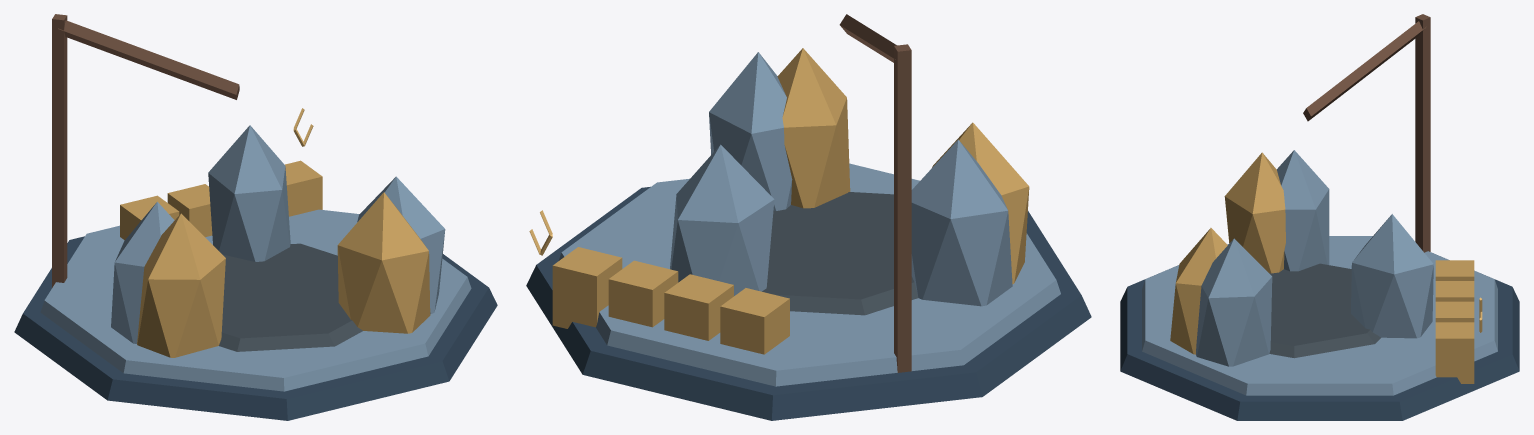
File: Quarry_3.fbx
3 views of the same model, side by side, from view 1: azimuth 30°, elevation 25°; view 2: azimuth 150°, elevation 25°; view 3: azimuth 270°, elevation 25° (orthographic). The views are drawn at different scales.
Visible parts, largest first — view 1: Quarry_3; view 2: Quarry_3; view 3: Quarry_3.
Part boxes in pixels (bbox=[...]): Quarry_3: bbox=[14, 14, 497, 420]; Quarry_3: bbox=[526, 14, 1091, 420]; Quarry_3: bbox=[1120, 14, 1519, 420].
Bounding box in the file's own units: 2.9 × 2.28 × 2.9.
